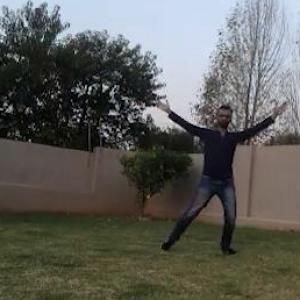takeoff: (154, 93, 290, 258)
